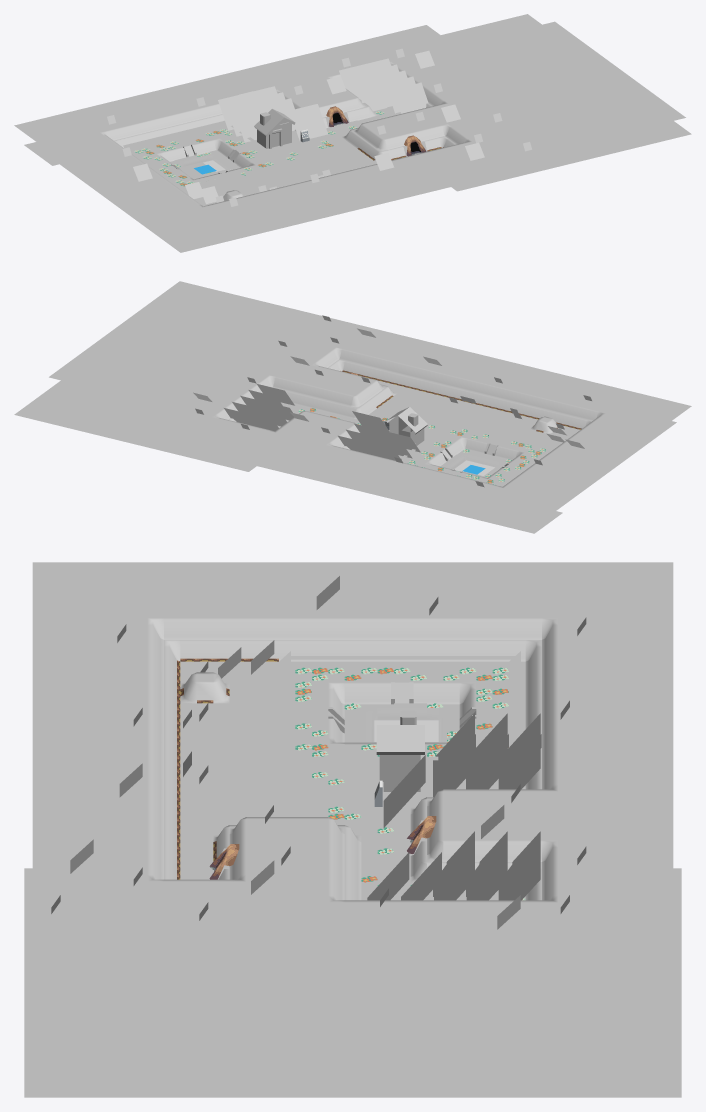
The model's file is Mt. Moon Square (Monday).dae.
The picture shows the model from 3 angles, top to bottom: view 1: azimuth 30°, elevation 25°; view 2: azimuth 150°, elevation 25°; view 3: azimuth 270°, elevation 25°; orthographic projection. The views are drawn at different scales.
Parts seen in each view (by area): view 1: sp_dun0203_00_00, sp_dun0203_01_00, nbc_h01; view 2: sp_dun0203_00_00, sp_dun0203_01_00, nbc_h01; view 3: sp_dun0203_00_00, sp_dun0203_01_00, nbc_h01.
Boxes of the visible parts, x1,y1,x2,y2 form: sp_dun0203_00_00: (14,56,457,252); sp_dun0203_01_00: (299,14,691,191); nbc_h01: (254,109,297,151); sp_dun0203_00_00: (247,336,691,533); sp_dun0203_01_00: (14,281,406,471); nbc_h01: (386,407,427,445); sp_dun0203_00_00: (32,562,673,869); sp_dun0203_01_00: (24,831,681,1097); nbc_h01: (367,710,426,797).
Bounding box in the file's own units: 1160 × 640 × 127.
